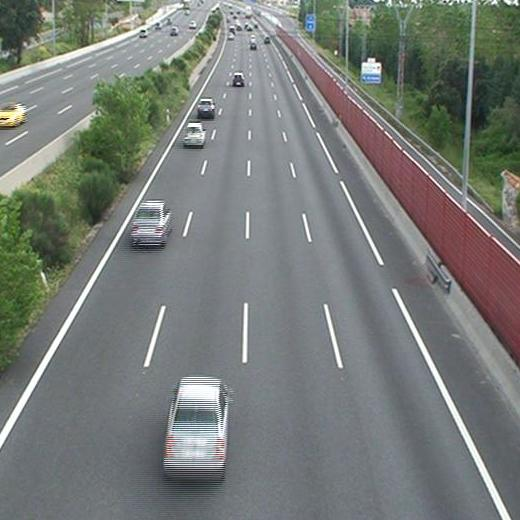car: (163, 376, 226, 474), (132, 201, 169, 242), (184, 123, 205, 145), (197, 100, 216, 117), (232, 74, 244, 86)
